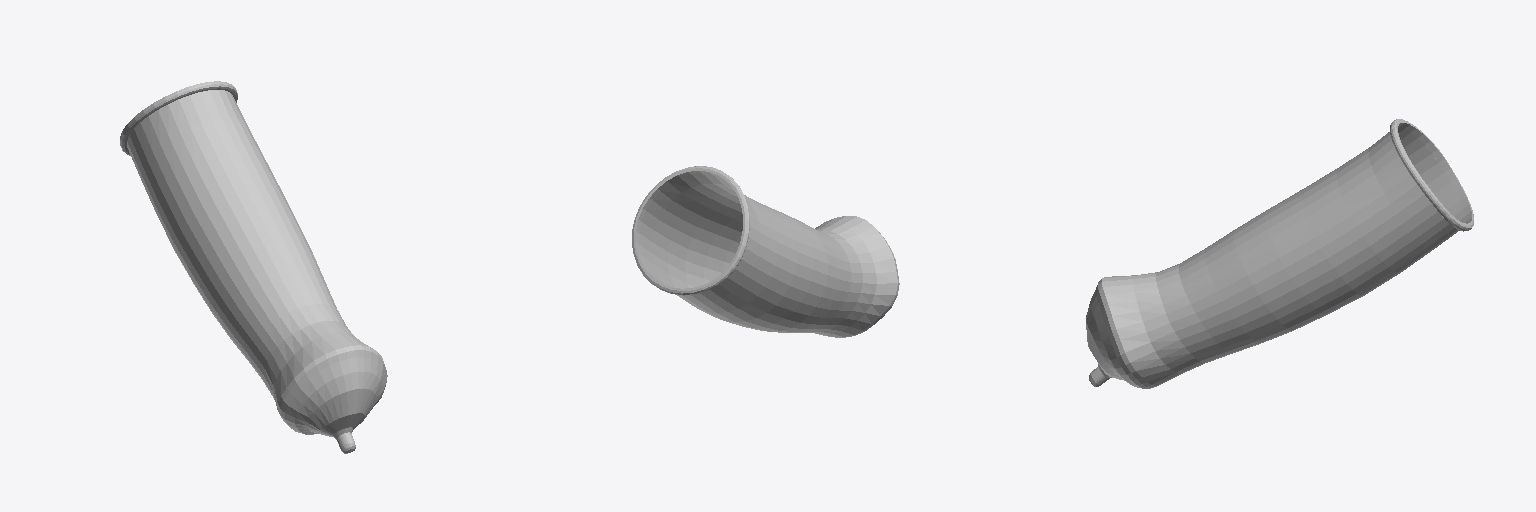
File: Pony Condom.obj
3 views of the same model, side by side, from view 1: azimuth 30°, elevation 25°; view 2: azimuth 150°, elevation 25°; view 3: azimuth 270°, elevation 25° (orthographic).
Parts seen in each view (by area): view 1: dick_in_sheath.017_horsecock.001; view 2: dick_in_sheath.017_horsecock.001; view 3: dick_in_sheath.017_horsecock.001.
Part boxes in pixels (left/top/right/bottom): dick_in_sheath.017_horsecock.001: left=120, top=81, right=387, bottom=453; dick_in_sheath.017_horsecock.001: left=632, top=166, right=899, bottom=337; dick_in_sheath.017_horsecock.001: left=1086, top=119, right=1473, bottom=388.
Size of the model in its own units: 7.52 by 16.91 by 22.84.